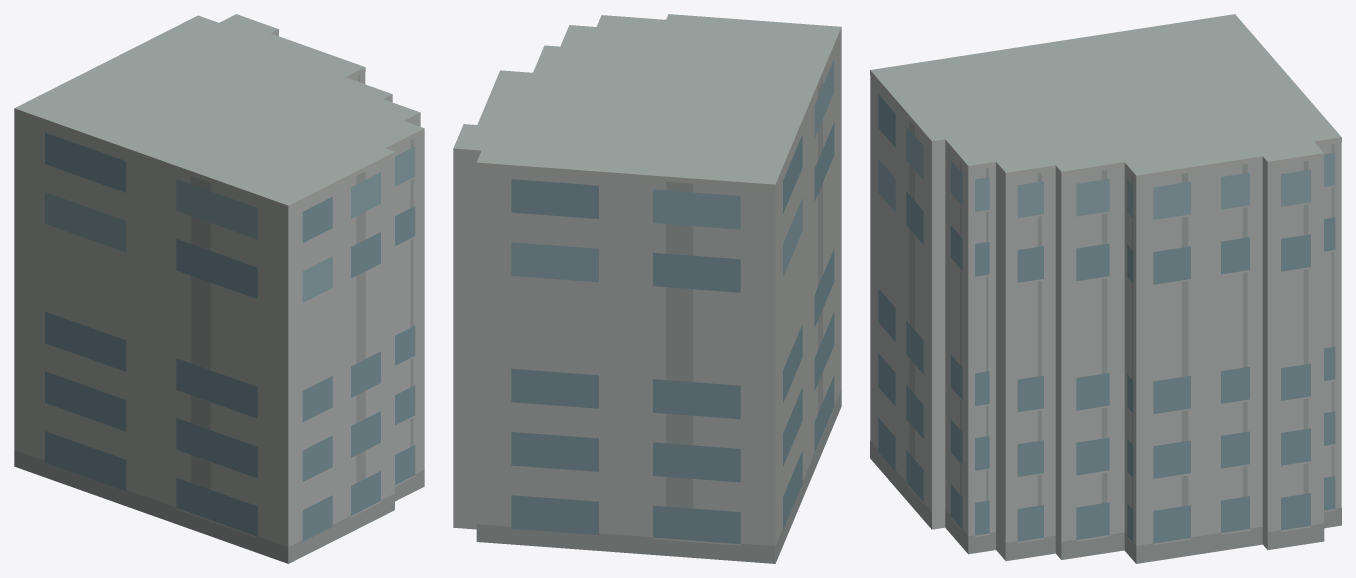
File: survey-upis-32789780.glb
3 renders of one model, left to right at view 1: azimuth 30°, elevation 25°; view 2: azimuth 150°, elevation 25°; view 3: azimuth 270°, elevation 25°, orthographic. The views are drawn at different scales.
Visible parts, largest first — view 1: survey-upis-32789780.tmp; view 2: survey-upis-32789780.tmp; view 3: survey-upis-32789780.tmp.
Boxes of the visible parts, left/top/right/bottom form: survey-upis-32789780.tmp: left=14, top=14, right=424, bottom=563; survey-upis-32789780.tmp: left=453, top=14, right=841, bottom=563; survey-upis-32789780.tmp: left=870, top=14, right=1341, bottom=563.
Size of the model in its own units: 16.26 by 18.2 by 20.05.
